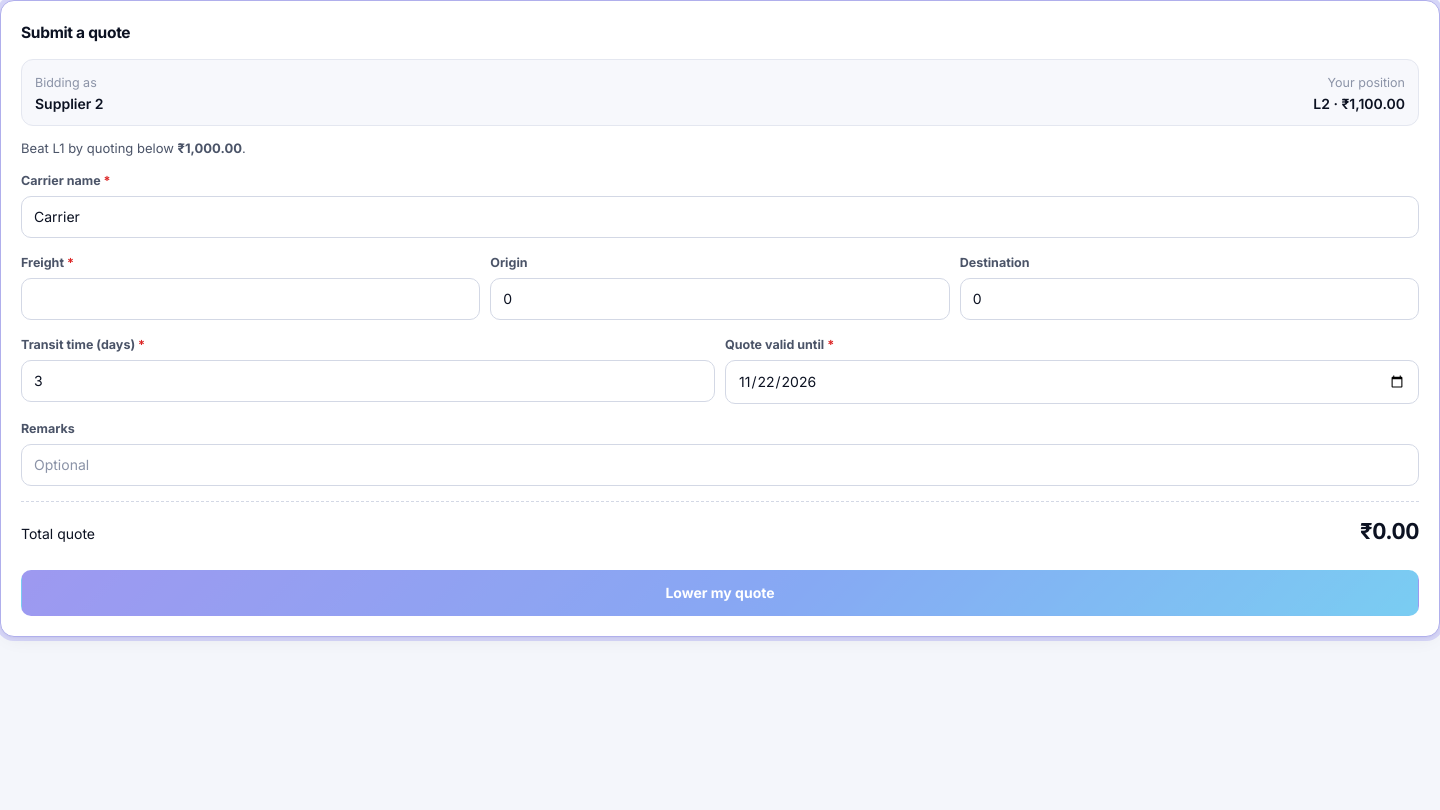
Test: BidForm › warns when a supplier tries to raise their own price
In the number field labelled "Freight *": (251, 299) [21,278,480,320], type "1200"
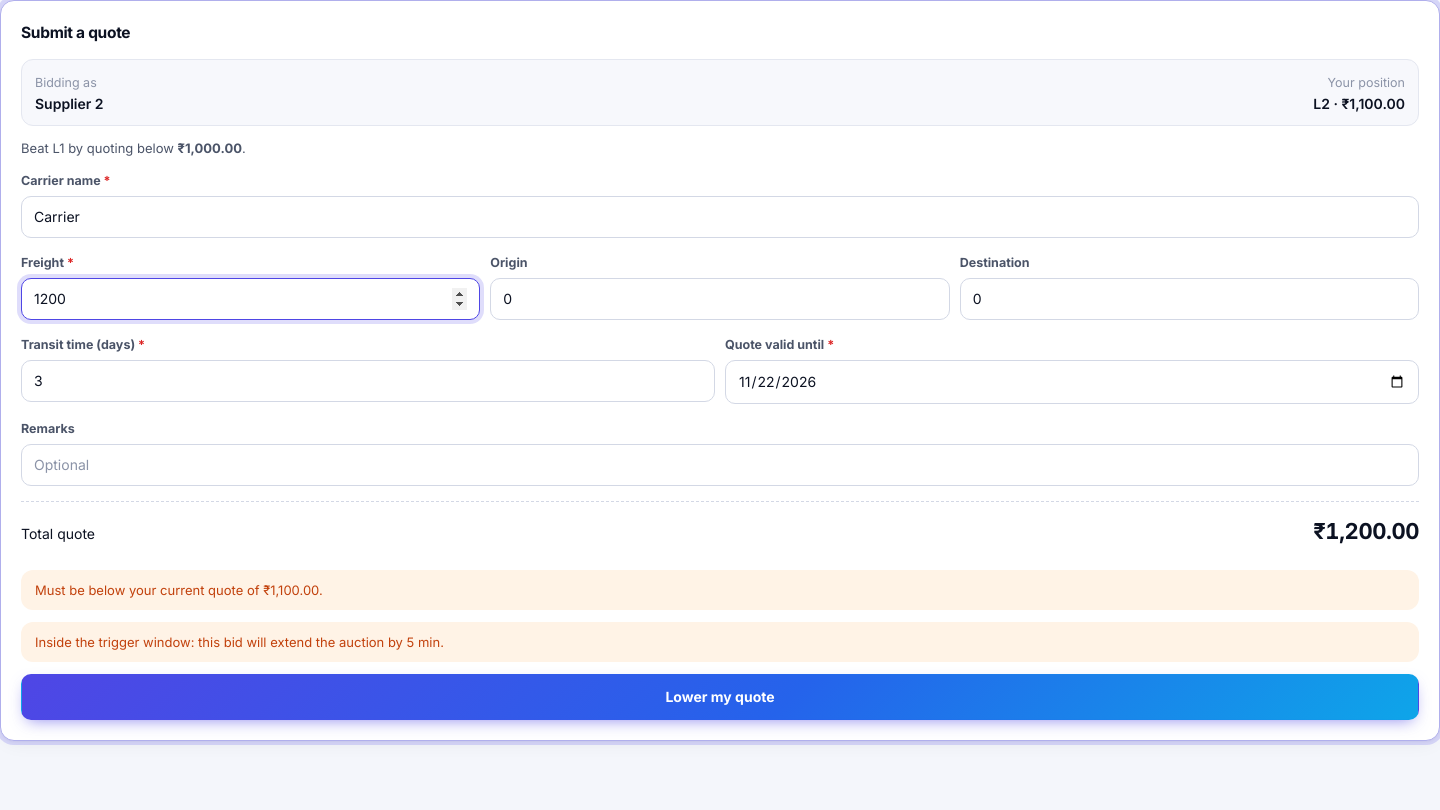
Expected: the text "Must be below your current quote of ₹1,100.00." is shown, [21,570,1419,610]
